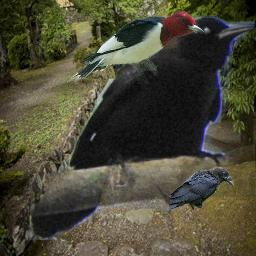Crow: (29, 17, 255, 240), (169, 166, 234, 211)
Woodpecker: (67, 5, 209, 88)
